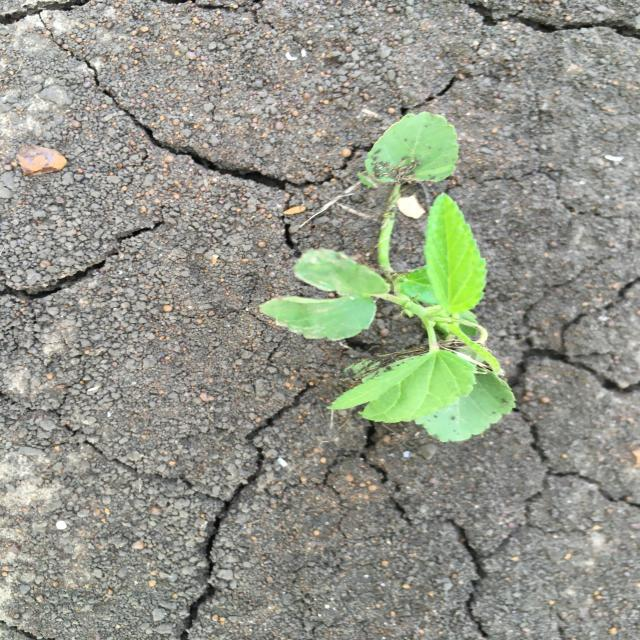PricklySida: (255, 108, 518, 444)
